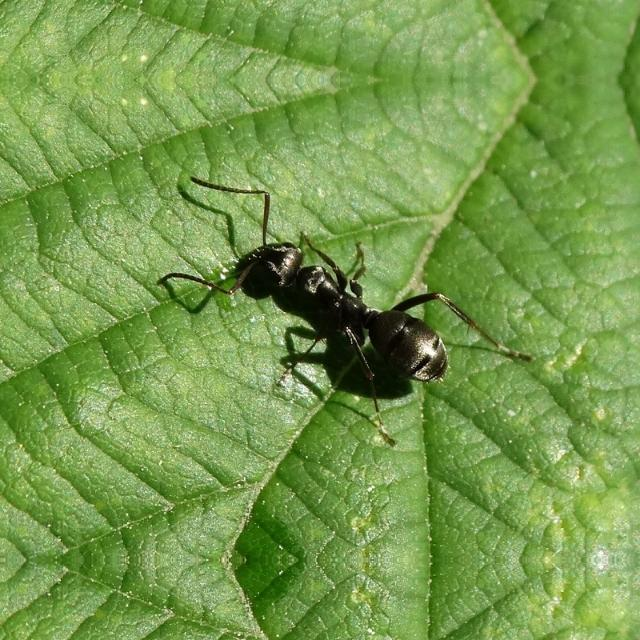Formica: (224, 230, 492, 386)
